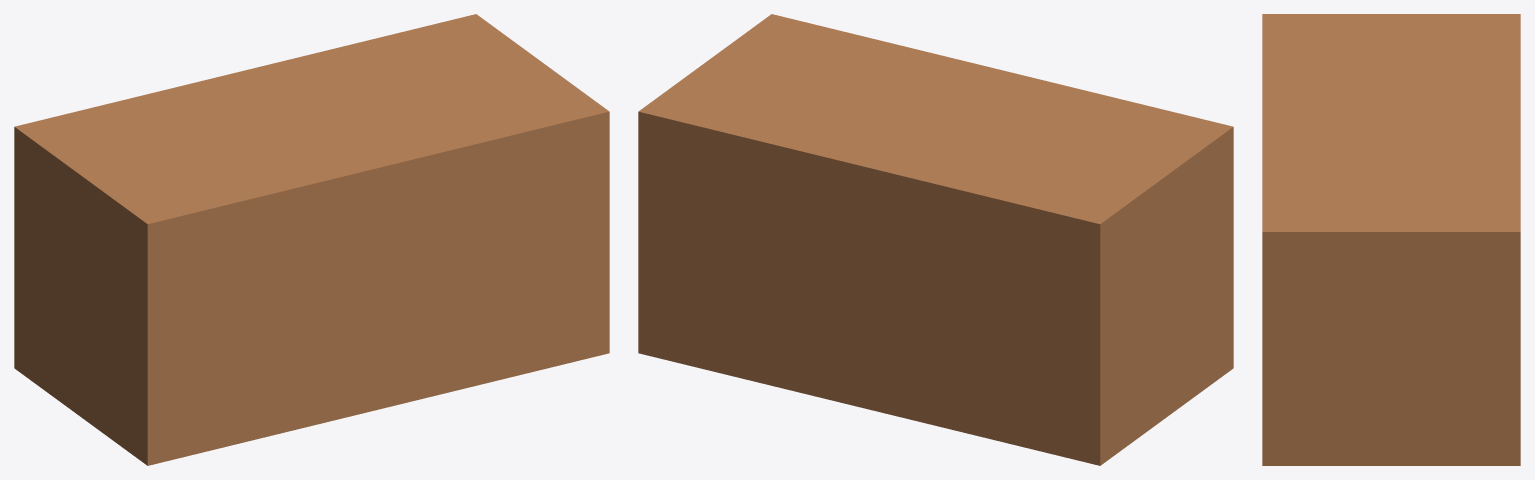
Rendered from hako_b_2.FBX.
3 views of the same model, side by side, from view 1: azimuth 30°, elevation 25°; view 2: azimuth 150°, elevation 25°; view 3: azimuth 270°, elevation 25° (orthographic). The views are drawn at different scales.
Parts seen in each view (by area): view 1: Box001; view 2: Box001; view 3: Box001.
Part boxes in pixels (x1,y1,x2,y2): Box001: [14, 14, 609, 465]; Box001: [638, 14, 1233, 465]; Box001: [1262, 14, 1520, 465].
Size of the model in its own units: 787 by 394 by 394.
